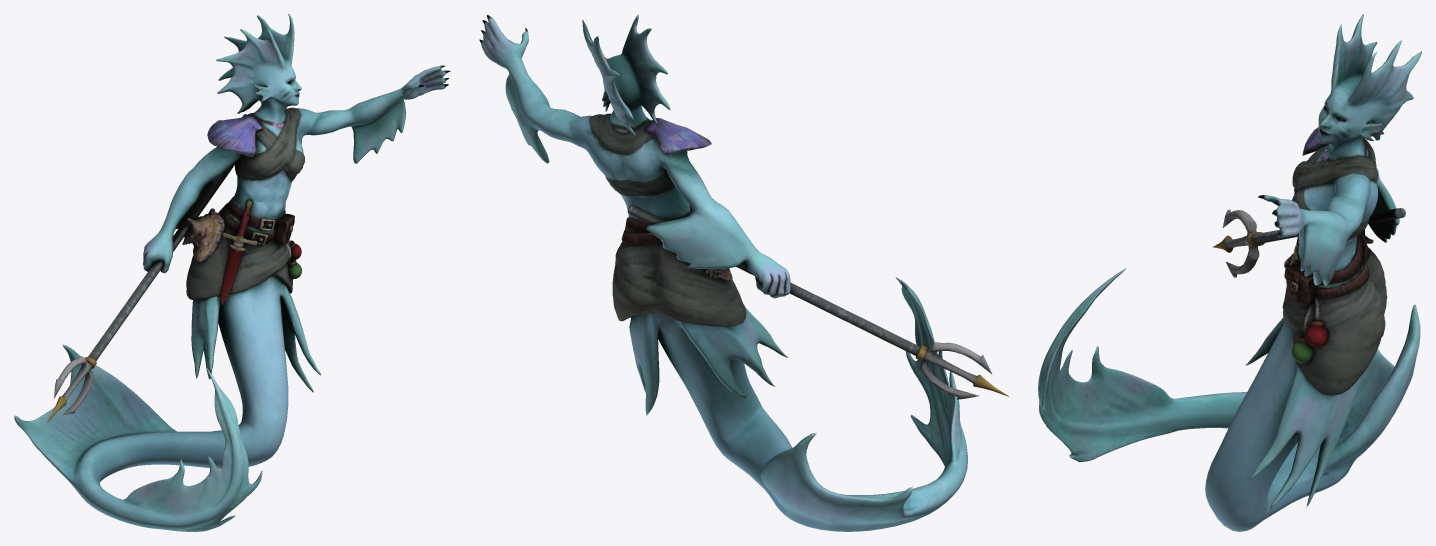
The model's file is MZ4250 - Merfolk Female.glb.
The picture shows the model from 3 angles, left to right: view 1: azimuth 30°, elevation 25°; view 2: azimuth 150°, elevation 25°; view 3: azimuth 270°, elevation 25°; orthographic projection. The views are drawn at different scales.
Parts seen in each view (by area): view 1: Merfolk Female Updated Sculpted.001; view 2: Merfolk Female Updated Sculpted.001; view 3: Merfolk Female Updated Sculpted.001.
Part boxes in pixels (x1,y1,x2,y2): Merfolk Female Updated Sculpted.001: (14,14,450,531); Merfolk Female Updated Sculpted.001: (479,14,1008,531); Merfolk Female Updated Sculpted.001: (1038,14,1421,531).
Size of the model in its own units: 47.1 by 42.46 by 26.99.
Materials: 1 (1 with a texture image).
